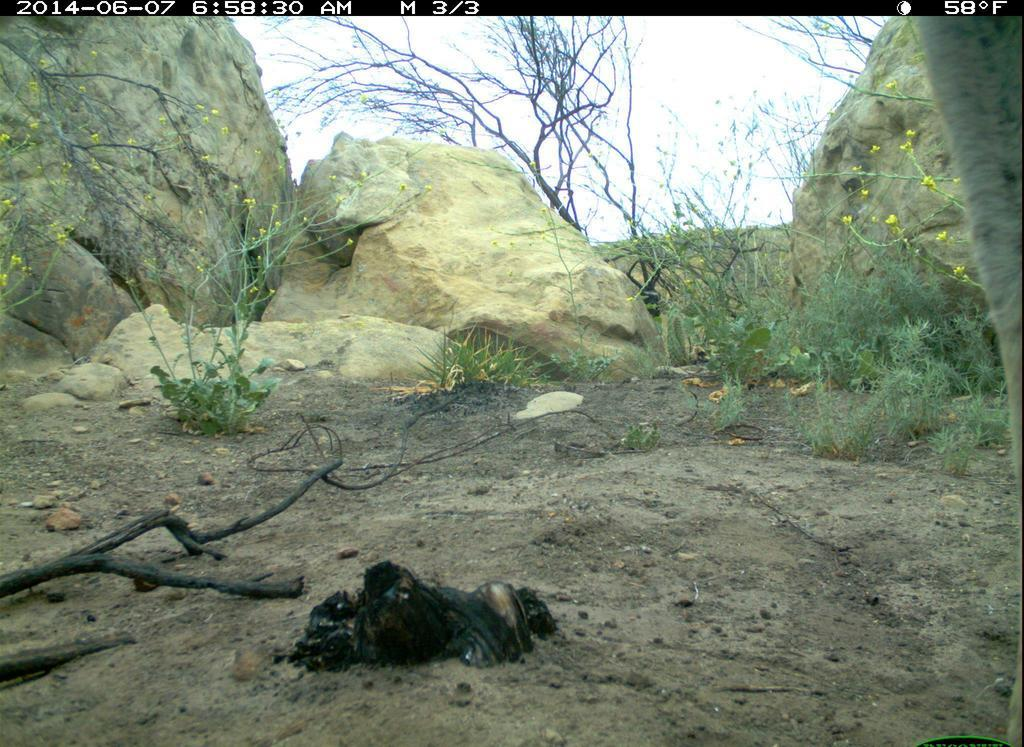deer: (908, 13, 1023, 747)
